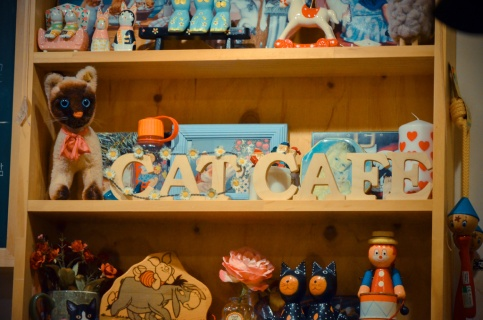Cat: (46, 61, 105, 200)
